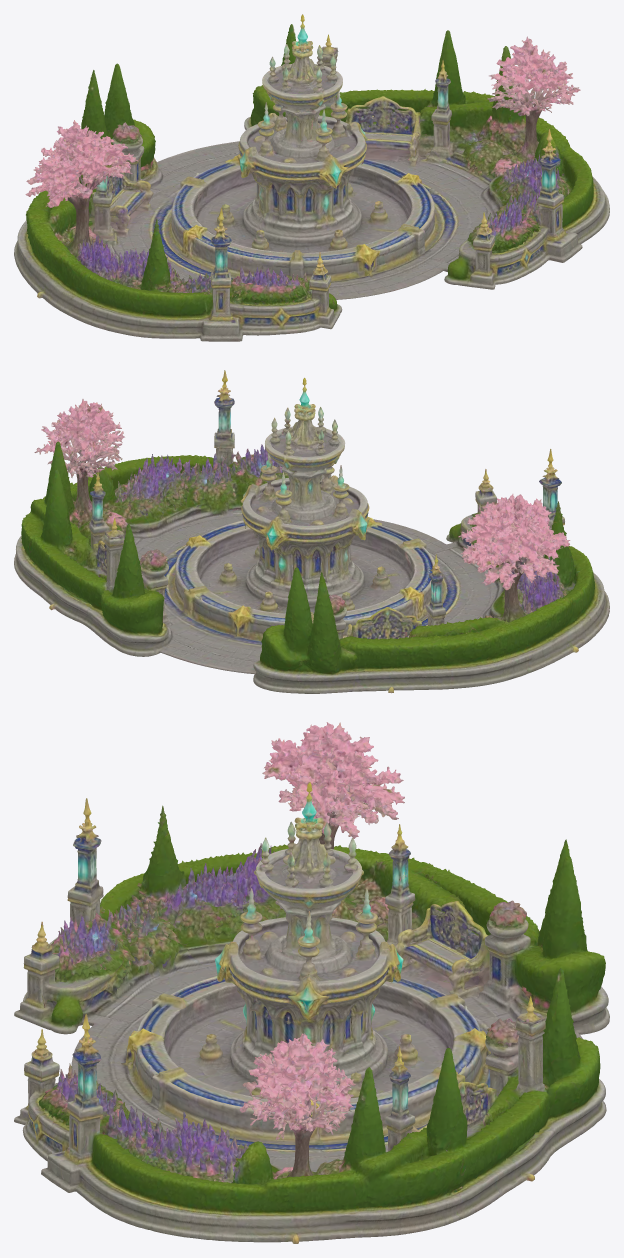
File: royal-fountain-garden.glb
The picture shows the model from 3 angles, top to bottom: view 1: azimuth 30°, elevation 25°; view 2: azimuth 150°, elevation 25°; view 3: azimuth 270°, elevation 25°; orthographic projection. The views are drawn at different scales.
Bounding box in the file's own units: 1.9 × 0.7234 × 1.36.
Materials: 1 (1 with a texture image).
